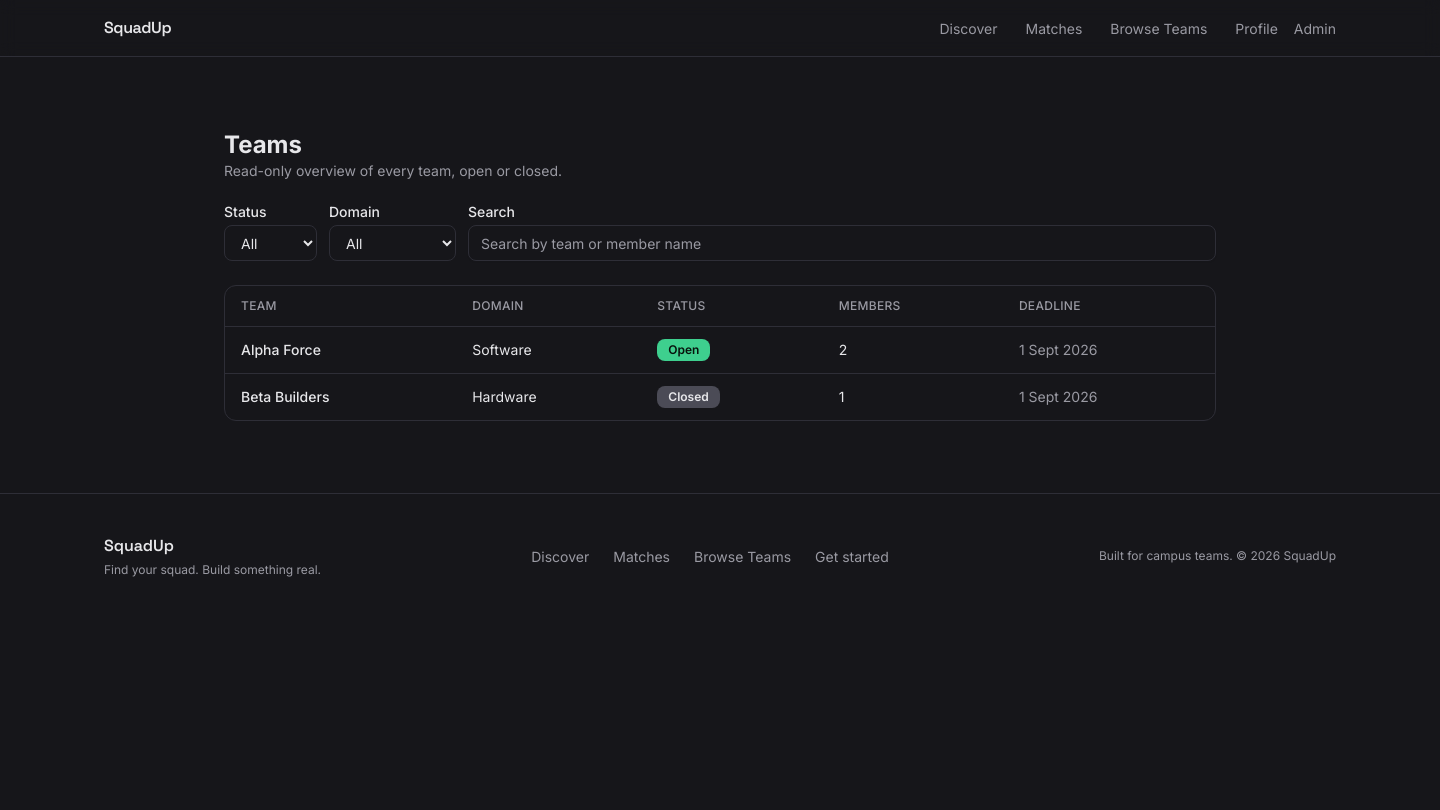
admin teams — /admin/teams › searches by team name
The width and height of the screenshot is (1440, 810).
Check: the text "Alpha Force" is shown, box [225, 326, 456, 374]
Type "beta" into the field labelled "Search". click: (842, 243)
box: [468, 225, 1216, 261]
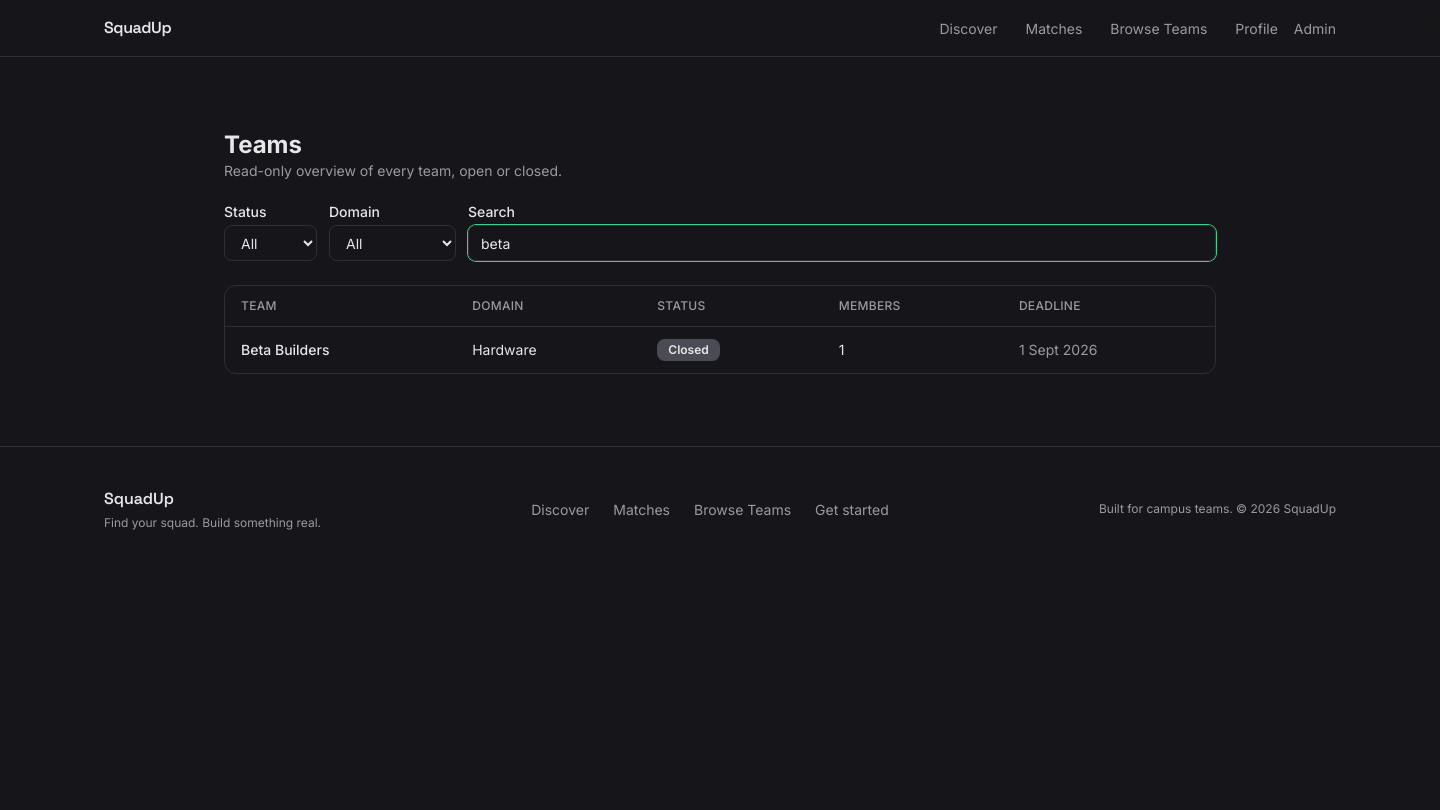
Check: the text "Beta Builders" is shown, box [225, 326, 456, 373]
Check: the text "Alpha Force" is gone
